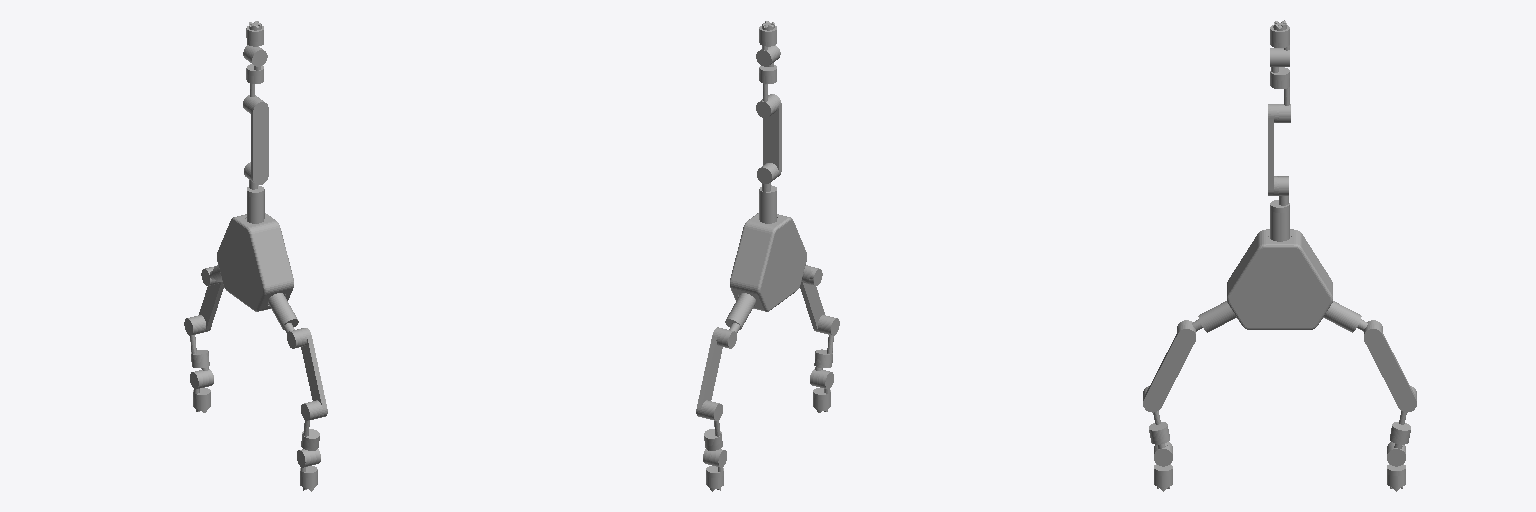
--- What the picture shows (computed from the rendered views, not written in the file) ---
3 views of the same robot in one strip: view 1: azimuth 30°, elevation 25°; view 2: azimuth 150°, elevation 25°; view 3: azimuth 270°, elevation 25° (orthographic).
Model mario_so2 with 26 links and 25 joints (18 continuous, 7 fixed), rooted at dummy_link, posed all joints at 0.
Visible links, largest first — view 1: base_link, arm_01_link_02_1, arm_02_link_02_1, arm_03_link_02_1, arm_02_link_03_1, arm_03_link_03_1; view 2: base_link, arm_01_link_02_1, arm_03_link_02_1, arm_02_link_02_1, arm_03_link_03_1, arm_02_link_03_1, arm_01_link_03_1; view 3: base_link, arm_02_link_02_1, arm_03_link_02_1, arm_01_link_02_1, arm_01_link_00_1, arm_02_link_00_1, arm_03_link_00_1.
Link boxes in pixels (bbox=[...]): base_link: bbox=[217, 213, 293, 311]; arm_01_link_02_1: bbox=[248, 98, 268, 184]; arm_02_link_02_1: bbox=[297, 328, 327, 418]; arm_03_link_02_1: bbox=[198, 266, 223, 332]; arm_02_link_03_1: bbox=[301, 401, 319, 445]; arm_03_link_03_1: bbox=[184, 316, 208, 362]; base_link: bbox=[730, 213, 806, 311]; arm_01_link_02_1: bbox=[763, 94, 781, 178]; arm_03_link_02_1: bbox=[696, 327, 725, 418]; arm_02_link_02_1: bbox=[800, 266, 825, 332]; arm_03_link_03_1: bbox=[704, 401, 722, 445]; arm_02_link_03_1: bbox=[815, 316, 839, 362]; arm_01_link_03_1: bbox=[756, 73, 776, 117]; base_link: bbox=[1227, 229, 1332, 329]; arm_02_link_02_1: bbox=[1143, 324, 1195, 412]; arm_03_link_02_1: bbox=[1364, 324, 1416, 412]; arm_01_link_02_1: bbox=[1268, 104, 1278, 195]; arm_01_link_00_1: bbox=[1270, 210, 1289, 240]; arm_02_link_00_1: bbox=[1204, 301, 1236, 329]; arm_03_link_00_1: bbox=[1323, 301, 1355, 329].
Bounding box of the posed robot: 0.2 × 1.4 × 2.63 m (x, y, z).
Meshes: 25 distinct files referenced, 25 mesh visuals loaded (25 binary STL).

The robot description file, URDF, robot "mario_so2":
<?xml version="1.0" ?>
<!-- =================================================================================== -->
<!-- |    This document was autogenerated by xacro from [local-path]/irene_ws/src/mario_so2_description/urdf/mario_so2.xacro | -->
<!-- |    EDITING THIS FILE BY HAND IS NOT RECOMMENDED                                 | -->
<!-- =================================================================================== -->
<robot name="mario_so2">
    <material name="silver">
        <color rgba="0.700 0.700 0.700 1.000" />
    </material>
    <transmission name="arm_01_joint_06_tran">
        <type>transmission_interface/SimpleTransmission</type>
        <joint name="arm_01_joint_06">
            <hardwareInterface>hardware_interface/PositionJointInterface</hardwareInterface>
        </joint>
        <actuator name="arm_01_joint_06_actr">
            <hardwareInterface>hardware_interface/PositionJointInterface</hardwareInterface>
            <mechanicalReduction>1</mechanicalReduction>
        </actuator>
    </transmission>
    <transmission name="arm_01_joint_05_tran">
        <type>transmission_interface/SimpleTransmission</type>
        <joint name="arm_01_joint_05">
            <hardwareInterface>hardware_interface/PositionJointInterface</hardwareInterface>
        </joint>
        <actuator name="arm_01_joint_05_actr">
            <hardwareInterface>hardware_interface/PositionJointInterface</hardwareInterface>
            <mechanicalReduction>1</mechanicalReduction>
        </actuator>
    </transmission>
    <transmission name="arm_01_joint_04_tran">
        <type>transmission_interface/SimpleTransmission</type>
        <joint name="arm_01_joint_04">
            <hardwareInterface>hardware_interface/PositionJointInterface</hardwareInterface>
        </joint>
        <actuator name="arm_01_joint_04_actr">
            <hardwareInterface>hardware_interface/PositionJointInterface</hardwareInterface>
            <mechanicalReduction>1</mechanicalReduction>
        </actuator>
    </transmission>
    <transmission name="arm_01_joint_03_tran">
        <type>transmission_interface/SimpleTransmission</type>
        <joint name="arm_01_joint_03">
            <hardwareInterface>hardware_interface/PositionJointInterface</hardwareInterface>
        </joint>
        <actuator name="arm_01_joint_03_actr">
            <hardwareInterface>hardware_interface/PositionJointInterface</hardwareInterface>
            <mechanicalReduction>1</mechanicalReduction>
        </actuator>
    </transmission>
    <transmission name="arm_01_joint_02_tran">
        <type>transmission_interface/SimpleTransmission</type>
        <joint name="arm_01_joint_02">
            <hardwareInterface>hardware_interface/PositionJointInterface</hardwareInterface>
        </joint>
        <actuator name="arm_01_joint_02_actr">
            <hardwareInterface>hardware_interface/PositionJointInterface</hardwareInterface>
            <mechanicalReduction>1</mechanicalReduction>
        </actuator>
    </transmission>
    <transmission name="arm_01_joint_01_tran">
        <type>transmission_interface/SimpleTransmission</type>
        <joint name="arm_01_joint_01">
            <hardwareInterface>hardware_interface/PositionJointInterface</hardwareInterface>
        </joint>
        <actuator name="arm_01_joint_01_actr">
            <hardwareInterface>hardware_interface/PositionJointInterface</hardwareInterface>
            <mechanicalReduction>1</mechanicalReduction>
        </actuator>
    </transmission>
    <transmission name="arm_02_joint_06_tran">
        <type>transmission_interface/SimpleTransmission</type>
        <joint name="arm_02_joint_06">
            <hardwareInterface>hardware_interface/PositionJointInterface</hardwareInterface>
        </joint>
        <actuator name="arm_02_joint_06_actr">
            <hardwareInterface>hardware_interface/PositionJointInterface</hardwareInterface>
            <mechanicalReduction>1</mechanicalReduction>
        </actuator>
    </transmission>
    <transmission name="arm_02_joint_05_tran">
        <type>transmission_interface/SimpleTransmission</type>
        <joint name="arm_02_joint_05">
            <hardwareInterface>hardware_interface/PositionJointInterface</hardwareInterface>
        </joint>
        <actuator name="arm_02_joint_05_actr">
            <hardwareInterface>hardware_interface/PositionJointInterface</hardwareInterface>
            <mechanicalReduction>1</mechanicalReduction>
        </actuator>
    </transmission>
    <transmission name="arm_02_joint_04_tran">
        <type>transmission_interface/SimpleTransmission</type>
        <joint name="arm_02_joint_04">
            <hardwareInterface>hardware_interface/PositionJointInterface</hardwareInterface>
        </joint>
        <actuator name="arm_02_joint_04_actr">
            <hardwareInterface>hardware_interface/PositionJointInterface</hardwareInterface>
            <mechanicalReduction>1</mechanicalReduction>
        </actuator>
    </transmission>
    <transmission name="arm_02_joint_03_tran">
        <type>transmission_interface/SimpleTransmission</type>
        <joint name="arm_02_joint_03">
            <hardwareInterface>hardware_interface/PositionJointInterface</hardwareInterface>
        </joint>
        <actuator name="arm_02_joint_03_actr">
            <hardwareInterface>hardware_interface/PositionJointInterface</hardwareInterface>
            <mechanicalReduction>1</mechanicalReduction>
        </actuator>
    </transmission>
    <transmission name="arm_02_joint_02_tran">
        <type>transmission_interface/SimpleTransmission</type>
        <joint name="arm_02_joint_02">
            <hardwareInterface>hardware_interface/PositionJointInterface</hardwareInterface>
        </joint>
        <actuator name="arm_02_joint_02_actr">
            <hardwareInterface>hardware_interface/PositionJointInterface</hardwareInterface>
            <mechanicalReduction>1</mechanicalReduction>
        </actuator>
    </transmission>
    <transmission name="arm_02_joint_01_tran">
        <type>transmission_interface/SimpleTransmission</type>
        <joint name="arm_02_joint_01">
            <hardwareInterface>hardware_interface/PositionJointInterface</hardwareInterface>
        </joint>
        <actuator name="arm_02_joint_01_actr">
            <hardwareInterface>hardware_interface/PositionJointInterface</hardwareInterface>
            <mechanicalReduction>1</mechanicalReduction>
        </actuator>
    </transmission>
    <transmission name="arm_03_joint_06_tran">
        <type>transmission_interface/SimpleTransmission</type>
        <joint name="arm_03_joint_06">
            <hardwareInterface>hardware_interface/PositionJointInterface</hardwareInterface>
        </joint>
        <actuator name="arm_03_joint_06_actr">
            <hardwareInterface>hardware_interface/PositionJointInterface</hardwareInterface>
            <mechanicalReduction>1</mechanicalReduction>
        </actuator>
    </transmission>
    <transmission name="arm_03_joint_05_tran">
        <type>transmission_interface/SimpleTransmission</type>
        <joint name="arm_03_joint_05">
            <hardwareInterface>hardware_interface/PositionJointInterface</hardwareInterface>
        </joint>
        <actuator name="arm_03_joint_05_actr">
            <hardwareInterface>hardware_interface/PositionJointInterface</hardwareInterface>
            <mechanicalReduction>1</mechanicalReduction>
        </actuator>
    </transmission>
    <transmission name="arm_03_joint_04_tran">
        <type>transmission_interface/SimpleTransmission</type>
        <joint name="arm_03_joint_04">
            <hardwareInterface>hardware_interface/PositionJointInterface</hardwareInterface>
        </joint>
        <actuator name="arm_03_joint_04_actr">
            <hardwareInterface>hardware_interface/PositionJointInterface</hardwareInterface>
            <mechanicalReduction>1</mechanicalReduction>
        </actuator>
    </transmission>
    <transmission name="arm_03_joint_03_tran">
        <type>transmission_interface/SimpleTransmission</type>
        <joint name="arm_03_joint_03">
            <hardwareInterface>hardware_interface/PositionJointInterface</hardwareInterface>
        </joint>
        <actuator name="arm_03_joint_03_actr">
            <hardwareInterface>hardware_interface/PositionJointInterface</hardwareInterface>
            <mechanicalReduction>1</mechanicalReduction>
        </actuator>
    </transmission>
    <transmission name="arm_03_joint_02_tran">
        <type>transmission_interface/SimpleTransmission</type>
        <joint name="arm_03_joint_02">
            <hardwareInterface>hardware_interface/PositionJointInterface</hardwareInterface>
        </joint>
        <actuator name="arm_03_joint_02_actr">
            <hardwareInterface>hardware_interface/PositionJointInterface</hardwareInterface>
            <mechanicalReduction>1</mechanicalReduction>
        </actuator>
    </transmission>
    <transmission name="arm_03_joint_01_tran">
        <type>transmission_interface/SimpleTransmission</type>
        <joint name="arm_03_joint_01">
            <hardwareInterface>hardware_interface/PositionJointInterface</hardwareInterface>
        </joint>
        <actuator name="arm_03_joint_01_actr">
            <hardwareInterface>hardware_interface/PositionJointInterface</hardwareInterface>
            <mechanicalReduction>1</mechanicalReduction>
        </actuator>
    </transmission>
    <gazebo>
        <plugin filename="libgazebo_ros_control.so" name="control" />
        <plugin name="gazebo_ros_control">
            <robotNamespace>/</robotNamespace>
        </plugin>
    </gazebo>
    <gazebo reference="base_link">
        <material>Gazebo/Silver</material>
        <mu1>0.2</mu1>
        <mu2>0.2</mu2>
        <selfCollide>true</selfCollide>
        <gravity>true</gravity>
    </gazebo>
    <gazebo reference="arm_02_dock_1">
        <material>Gazebo/Silver</material>
        <mu1>0.2</mu1>
        <mu2>0.2</mu2>
        <selfCollide>true</selfCollide>
    </gazebo>
    <gazebo reference="arm_02_link_06_1">
        <material>Gazebo/Silver</material>
        <mu1>0.2</mu1>
        <mu2>0.2</mu2>
        <selfCollide>true</selfCollide>
    </gazebo>
    <gazebo reference="arm_02_link_05_1">
        <material>Gazebo/Silver</material>
        <mu1>0.2</mu1>
        <mu2>0.2</mu2>
        <selfCollide>true</selfCollide>
    </gazebo>
    <gazebo reference="arm_02_link_04_1">
        <material>Gazebo/Silver</material>
        <mu1>0.2</mu1>
        <mu2>0.2</mu2>
        <selfCollide>true</selfCollide>
    </gazebo>
    <gazebo reference="arm_02_link_03_1">
        <material>Gazebo/Silver</material>
        <mu1>0.2</mu1>
        <mu2>0.2</mu2>
        <selfCollide>true</selfCollide>
    </gazebo>
    <gazebo reference="arm_02_link_02_1">
        <material>Gazebo/Silver</material>
        <mu1>0.2</mu1>
        <mu2>0.2</mu2>
        <selfCollide>true</selfCollide>
    </gazebo>
    <gazebo reference="arm_02_link_01_1">
        <material>Gazebo/Silver</material>
        <mu1>0.2</mu1>
        <mu2>0.2</mu2>
        <selfCollide>true</selfCollide>
    </gazebo>
    <gazebo reference="arm_03_dock_1">
        <material>Gazebo/Silver</material>
        <mu1>0.2</mu1>
        <mu2>0.2</mu2>
        <selfCollide>true</selfCollide>
    </gazebo>
    <gazebo reference="arm_03_link_06_1">
        <material>Gazebo/Silver</material>
        <mu1>0.2</mu1>
        <mu2>0.2</mu2>
        <selfCollide>true</selfCollide>
    </gazebo>
    <gazebo reference="arm_03_link_05_1">
        <material>Gazebo/Silver</material>
        <mu1>0.2</mu1>
        <mu2>0.2</mu2>
        <selfCollide>true</selfCollide>
    </gazebo>
    <gazebo reference="arm_03_link_04_1">
        <material>Gazebo/Silver</material>
        <mu1>0.2</mu1>
        <mu2>0.2</mu2>
        <selfCollide>true</selfCollide>
    </gazebo>
    <gazebo reference="arm_03_link_03_1">
        <material>Gazebo/Silver</material>
        <mu1>0.2</mu1>
        <mu2>0.2</mu2>
        <selfCollide>true</selfCollide>
    </gazebo>
    <gazebo reference="arm_03_link_02_1">
        <material>Gazebo/Silver</material>
        <mu1>0.2</mu1>
        <mu2>0.2</mu2>
        <selfCollide>true</selfCollide>
    </gazebo>
    <gazebo reference="arm_03_link_01_1">
        <material>Gazebo/Silver</material>
        <mu1>0.2</mu1>
        <mu2>0.2</mu2>
        <selfCollide>true</selfCollide>
    </gazebo>
    <gazebo reference="arm_01_dock_1">
        <material>Gazebo/Silver</material>
        <mu1>0.2</mu1>
        <mu2>0.2</mu2>
        <selfCollide>true</selfCollide>
    </gazebo>
    <gazebo reference="arm_01_link_06_1">
        <material>Gazebo/Silver</material>
        <mu1>0.2</mu1>
        <mu2>0.2</mu2>
        <selfCollide>true</selfCollide>
    </gazebo>
    <gazebo reference="arm_01_link_05_1">
        <material>Gazebo/Silver</material>
        <mu1>0.2</mu1>
        <mu2>0.2</mu2>
        <selfCollide>true</selfCollide>
    </gazebo>
    <gazebo reference="arm_01_link_04_1">
        <material>Gazebo/Silver</material>
        <mu1>0.2</mu1>
        <mu2>0.2</mu2>
        <selfCollide>true</selfCollide>
    </gazebo>
    <gazebo reference="arm_01_link_03_1">
        <material>Gazebo/Silver</material>
        <mu1>0.2</mu1>
        <mu2>0.2</mu2>
        <selfCollide>true</selfCollide>
    </gazebo>
    <gazebo reference="arm_01_link_02_1">
        <material>Gazebo/Silver</material>
        <mu1>0.2</mu1>
        <mu2>0.2</mu2>
        <selfCollide>true</selfCollide>
    </gazebo>
    <gazebo reference="arm_01_link_01_1">
        <material>Gazebo/Silver</material>
        <mu1>0.2</mu1>
        <mu2>0.2</mu2>
        <selfCollide>true</selfCollide>
    </gazebo>
    <gazebo reference="arm_01_link_00_1">
        <material>Gazebo/Silver</material>
        <mu1>0.2</mu1>
        <mu2>0.2</mu2>
        <selfCollide>true</selfCollide>
    </gazebo>
    <gazebo reference="arm_03_link_00_1">
        <material>Gazebo/Silver</material>
        <mu1>0.2</mu1>
        <mu2>0.2</mu2>
        <selfCollide>true</selfCollide>
    </gazebo>
    <gazebo reference="arm_02_link_00_1">
        <material>Gazebo/Silver</material>
        <mu1>0.2</mu1>
        <mu2>0.2</mu2>
        <selfCollide>true</selfCollide>
    </gazebo>
    <link name="dummy_link">
        <visual>
            <!-- <geometry>
      <sphere radius="0.1"/>
    </geometry>   -->
        </visual>
        <collision>
            <geometry>
                <cylinder length="0.05" radius="0.1" />
            </geometry>
        </collision>
        <inertial>
            <mass value="0.1" />
            <origin xyz="0 0 0" rpy="0 0 0" />
            <inertia ixx="0.03" iyy="0.03" izz="0.03" ixy="0.0" ixz="0.0" iyz="0.0" />
        </inertial>
    </link>
    <link name="base_link">
        <inertial>
            <origin rpy="0 0 0" xyz="0.0010000000000137455 0.595339900070785 1.460901992118656" />
            <mass value="13.472578526765847" />
            <inertia ixx="0.568265" ixy="-0.0" ixz="-0.0" iyy="0.36191" iyz="0.0" izz="0.36191" />
        </inertial>
        <visual>
            <origin rpy="0 0 0" xyz="0 0 0" />
            <geometry>
                <mesh filename="package://mario_so2_description/meshes/base_link.stl" scale="0.001 0.001 0.001" />
            </geometry>
            <material name="silver" />
        </visual>
        <collision>
            <origin rpy="0 0 0" xyz="0 0 0" />
            <geometry>
                <mesh filename="package://mario_so2_description/meshes/base_link.stl" scale="0.001 0.001 0.001" />
            </geometry>
        </collision>
    </link>
    <joint name="dummy_joint" type="fixed">
        <origin rpy="0 0 0" xyz="0.0 0.0 0.0" />
        <parent link="dummy_link" />
        <child link="base_link" />
    </joint>
    <link name="arm_01_dock_1" self_collide="false">
        <inertial>
            <origin rpy="0 0 0" xyz="4.130804489454218e-05 -9.994297911486427e-08 0.01137523033735599" />
            <mass value="0.08663474027437225" />
            <inertia ixx="3.1e-05" ixy="-0.0" ixz="0.0" iyy="3e-05" iyz="0.0" izz="5.2e-05" />
        </inertial>
        <visual>
            <origin rpy="0 0 0" xyz="-0.001 -0.59634 -2.902983" />
            <geometry>
                <mesh filename="package://mario_so2_description/meshes/arm_01_dock_1.stl" scale="0.001 0.001 0.001" />
            </geometry>
            <material name="silver" />
        </visual>
        <collision>
            <origin rpy="0 0 0" xyz="-0.001 -0.59634 -2.902983" />
            <geometry>
                <mesh filename="package://mario_so2_description/meshes/arm_01_dock_1.stl" scale="0.001 0.001 0.001" />
            </geometry>
        </collision>
    </link>
    <link name="arm_01_link_06_1">
        <inertial>
            <origin rpy="0 0 0" xyz="2.2254116952002967e-14 -9.992921334855964e-08 0.03075011594588606" />
            <mass value="0.512001062718799" />
            <inertia ixx="0.000481" ixy="-0.0" ixz="0.0" iyy="0.000481" iyz="0.0" izz="0.00064" />
        </inertial>
        <visual>
            <origin rpy="0 0 0" xyz="-0.001 -0.59634 -2.841483" />
            <geometry>
                <mesh filename="package://mario_so2_description/meshes/arm_01_link_06_1.stl" scale="0.001 0.001 0.001" />
            </geometry>
            <material name="silver" />
        </visual>
        <collision>
            <origin rpy="0 0 0" xyz="-0.001 -0.59634 -2.841483" />
            <geometry>
                <mesh filename="package://mario_so2_description/meshes/arm_01_link_06_1.stl" scale="0.001 0.001 0.001" />
            </geometry>
        </collision>
    </link>
    <link name="arm_01_link_05_1">
        <inertial>
            <origin rpy="0 0 0" xyz="2.1614654510671016e-14 0.016214762343154 0.03500374657024796" />
            <mass value="0.6881071421127011" />
            <inertia ixx="0.001936" ixy="-0.0" ixz="0.0" iyy="0.002005" iyz="0.000344" izz="0.000767" />
        </inertial>
        <visual>
            <origin rpy="0 0 0" xyz="-0.001 -0.59634 -2.735583" />
            <geometry>
                <mesh filename="package://mario_so2_description/meshes/arm_01_link_05_1.stl" scale="0.001 0.001 0.001" />
            </geometry>
            <material name="silver" />
        </visual>
        <collision>
            <origin rpy="0 0 0" xyz="-0.001 -0.59634 -2.735583" />
            <geometry>
                <mesh filename="package://mario_so2_description/meshes/arm_01_link_05_1.stl" scale="0.001 0.001 0.001" />
            </geometry>
        </collision>
    </link>
    <link name="arm_01_link_04_1">
        <inertial>
            <origin rpy="0 0 0" xyz="1.51766521821414e-05 -0.01610484198962192 0.07035754068605904" />
            <mass value="0.7020791981272467" />
            <inertia ixx="0.001945" ixy="0.0" ixz="0.0" iyy="0.002018" iyz="0.000346" izz="0.000767" />
        </inertial>
        <visual>
            <origin rpy="0 0 0" xyz="-0.001 -0.59634 -2.629683" />
            <geometry>
                <mesh filename="package://mario_so2_description/meshes/arm_01_link_04_1.stl" scale="0.001 0.001 0.001" />
            </geometry>
            <material name="silver" />
        </visual>
        <collision>
            <origin rpy="0 0 0" xyz="-0.001 -0.59634 -2.629683" />
            <geometry>
                <mesh filename="package://mario_so2_description/meshes/arm_01_link_04_1.stl" scale="0.001 0.001 0.001" />
            </geometry>
        </collision>
    </link>
    <link name="arm_01_link_03_1">
        <inertial>
            <origin rpy="0 0 0" xyz="2.021126321860578e-14 0.021007460364998343 0.08504656118811038" />
            <mass value="0.997405593886483" />
            <inertia ixx="0.008723" ixy="-0.0" ixz="0.0" iyy="0.008725" iyz="0.00095" izz="0.001152" />
        </inertial>
        <visual>
            <origin rpy="0 0 0" xyz="-0.001 -0.58994 -2.421283" />
            <geometry>
                <mesh filename="package://mario_so2_description/meshes/arm_01_link_03_1.stl" scale="0.001 0.001 0.001" />
            </geometry>
            <material name="silver" />
        </visual>
        <collision>
            <origin rpy="0 0 0" xyz="-0.001 -0.58994 -2.421283" />
            <geometry>
                <mesh filename="package://mario_so2_description/meshes/arm_01_link_03_1.stl" scale="0.001 0.001 0.001" />
            </geometry>
        </collision>
    </link>
    <link name="arm_01_link_02_1">
        <inertial>
            <origin rpy="0 0 0" xyz="1.8630496451121914e-14 -0.03418881162303633 0.20500011594588496" />
            <mass value="1.9698176425610354" />
            <inertia ixx="0.049229" ixy="-0.0" ixz="-0.0" iyy="0.050345" iyz="0.0" izz="0.001889" />
        </inertial>
        <visual>
            <origin rpy="0 0 0" xyz="-0.001 -0.58994 -2.011283" />
            <geometry>
                <mesh filename="package://mario_so2_description/meshes/arm_01_link_02_1.stl" scale="0.001 0.001 0.001" />
            </geometry>
            <material name="silver" />
        </visual>
        <collision>
            <origin rpy="0 0 0" xyz="-0.001 -0.58994 -2.011283" />
            <geometry>
                <mesh filename="package://mario_so2_description/meshes/arm_01_link_02_1.stl" scale="0.001 0.001 0.001" />
            </geometry>
        </collision>
    </link>
    <link name="arm_01_link_01_1">
        <inertial>
            <origin rpy="0 0 0" xyz="6.394930572714216e-09 0.013243404228856392 0.0817063972213945" />
            <mass value="0.770115514016459" />
            <inertia ixx="0.002717" ixy="0.0" ixz="0.0" iyy="0.002827" iyz="-0.000327" izz="0.000757" />
        </inertial>
        <visual>
            <origin rpy="0 0 0" xyz="-0.001 -0.59534 -1.882883" />
            <geometry>
                <mesh filename="package://mario_so2_description/meshes/arm_01_link_01_1.stl" scale="0.001 0.001 0.001" />
            </geometry>
            <material name="silver" />
        </visual>
        <collision>
            <origin rpy="0 0 0" xyz="-0.001 -0.59534 -1.882883" />
            <geometry>
                <mesh filename="package://mario_so2_description/meshes/arm_01_link_01_1.stl" scale="0.001 0.001 0.001" />
            </geometry>
        </collision>
    </link>
    <link name="arm_01_link_00_1">
        <inertial>
            <origin rpy="0 0 0" xyz="1.6445395392694628e-14 -9.992921468082727e-08 0.0782001159458845" />
            <mass value="1.302064491206825" />
            <inertia ixx="0.003468" ixy="-0.0" ixz="0.0" iyy="0.003468" iyz="-0.0" izz="0.001628" />
        </inertial>
        <visual>
            <origin rpy="0 0 0" xyz="-0.001 -0.59534 -1.726483" />
            <geometry>
                <mesh filename="package://mario_so2_description/meshes/arm_01_link_00_1.stl" scale="0.001 0.001 0.001" />
            </geometry>
            <material name="silver" />
        </visual>
        <collision>
            <origin rpy="0 0 0" xyz="-0.001 -0.59534 -1.726483" />
            <geometry>
                <mesh filename="package://mario_so2_description/meshes/arm_01_link_00_1.stl" scale="0.001 0.001 0.001" />
            </geometry>
        </collision>
    </link>
    <link name="arm_02_dock_1" self_collide="false">
        <inertial>
            <origin rpy="0 0 0" xyz="-2.9186704699881715e-05 -2.91810067366062e-05 -0.011374866043244669" />
            <mass value="0.08663439746489035" />
            <inertia ixx="3e-05" ixy="0.0" ixz="0.0" iyy="3e-05" iyz="0.0" izz="5.2e-05" />
        </inertial>
        <visual>
            <origin rpy="0 0 0" xyz="0.0 0.0 -0.3372" />
            <geometry>
                <mesh filename="package://mario_so2_description/meshes/arm_02_dock_1.stl" scale="0.001 0.001 0.001" />
            </geometry>
            <material name="silver" />
        </visual>
        <collision>
            <origin rpy="0 0 0" xyz="0.0 0.0 -0.3372" />
            <geometry>
                <mesh filename="package://mario_so2_description/meshes/arm_02_dock_1.stl" scale="0.001 0.001 0.001" />
            </geometry>
        </collision>
    </link>
    <link name="arm_02_link_06_1">
        <inertial>
            <origin rpy="0 0 0" xyz="-9.774125953043723e-16 -3.552713678800501e-16 -0.030749839251724587" />
            <mass value="0.5120010627188" />
            <inertia ixx="0.000481" ixy="0.0" ixz="0.0" iyy="0.000481" iyz="0.0" izz="0.00064" />
        </inertial>
        <visual>
            <origin rpy="0 0 0" xyz="0.0 -0.0 -0.3987" />
            <geometry>
                <mesh filename="package://mario_so2_description/meshes/arm_02_link_06_1.stl" scale="0.001 0.001 0.001" />
            </geometry>
            <material name="silver" />
        </visual>
        <collision>
            <origin rpy="0 0 0" xyz="0.0 -0.0 -0.3987" />
            <geometry>
                <mesh filename="package://mario_so2_description/meshes/arm_02_link_06_1.stl" scale="0.001 0.001 0.001" />
            </geometry>
        </collision>
    </link>
    <link name="arm_02_link_05_1">
        <inertial>
            <origin rpy="0 0 0" xyz="-0.01621486220125651 2.3092638912203257e-16 -0.035003456293430824" />
            <mass value="0.6881065314959495" />
            <inertia ixx="0.002005" ixy="0.0" ixz="0.000344" iyy="0.001936" iyz="0.0" izz="0.000767" />
        </inertial>
        <visual>
            <origin rpy="0 0 0" xyz="-0.0 -0.0 -0.5046" />
            <geometry>
                <mesh filename="package://mario_so2_description/meshes/arm_02_link_05_1.stl" scale="0.001 0.001 0.001" />
            </geometry>
            <material name="silver" />
        </visual>
        <collision>
            <origin rpy="0 0 0" xyz="-0.0 -0.0 -0.5046" />
            <geometry>
                <mesh filename="package://mario_so2_description/meshes/arm_02_link_05_1.stl" scale="0.001 0.001 0.001" />
            </geometry>
        </collision>
    </link>
    <link name="arm_02_link_04_1">
        <inertial>
            <origin rpy="0 0 0" xyz="0.016104633335673482 0.012202219627462504 -0.0692910057608298" />
            <mass value="0.7020704942394854" />
            <inertia ixx="0.002018" ixy="-6e-05" ixz="0.00034" iyy="0.00191" iyz="0.000202" izz="0.000803" />
        </inertial>
        <visual>
            <origin rpy="0 0 0" xyz="-0.0 0.018389 -0.608891" />
            <geometry>
                <mesh filename="package://mario_so2_description/meshes/arm_02_link_04_1.stl" scale="0.001 0.001 0.001" />
            </geometry>
            <material name="silver" />
        </visual>
        <collision>
            <origin rpy="0 0 0" xyz="-0.0 0.018389 -0.608891" />
            <geometry>
                <mesh filename="package://mario_so2_description/meshes/arm_02_link_04_1.stl" scale="0.001 0.001 0.001" />
            </geometry>
        </collision>
    </link>
    <link name="arm_02_link_03_1">
        <inertial>
            <origin rpy="0 0 0" xyz="-0.021007560363107122 0.014768538004174867 -0.08375416118603274" />
            <mass value="0.9974055974174101" />
            <inertia ixx="0.008725" ixy="-0.000165" ixz="0.000936" iyy="0.008495" iyz="0.001295" izz="0.00138" />
        </inertial>
        <visual>
            <origin rpy="0 0 0" xyz="-0.0064 0.054578 -0.814125" />
            <geometry>
                <mesh filename="package://mario_so2_description/meshes/arm_02_link_03_1.stl" scale="0.001 0.001 0.001" />
            </geometry>
            <material name="silver" />
        </visual>
        <collision>
            <origin rpy="0 0 0" xyz="-0.0064 0.054578 -0.814125" />
            <geometry>
                <mesh filename="package://mario_so2_description/meshes/arm_02_link_03_1.stl" scale="0.001 0.001 0.001" />
            </geometry>
        </collision>
    </link>
    <link name="arm_02_link_02_1">
        <inertial>
            <origin rpy="0 0 0" xyz="0.03418871169382718 -0.08663687858386163 -0.18579266613748313" />
            <mass value="1.969817642560595" />
            <inertia ixx="0.050345" ixy="-0.0" ixz="0.0" iyy="0.040774" iyz="-0.018132" izz="0.010344" />
        </inertial>
        <visual>
            <origin rpy="0 0 0" xyz="-0.0064 -0.118696 -1.185711" />
            <geometry>
                <mesh filename="package://mario_so2_description/meshes/arm_02_link_02_1.stl" scale="0.001 0.001 0.001" />
            </geometry>
            <material name="silver" />
        </visual>
        <collision>
            <origin rpy="0 0 0" xyz="-0.0064 -0.118696 -1.185711" />
            <geometry>
                <mesh filename="package://mario_so2_description/meshes/arm_02_link_02_1.stl" scale="0.001 0.001 0.001" />
            </geometry>
        </collision>
    </link>
    <link name="arm_02_link_01_1">
        <inertial>
            <origin rpy="0 0 0" xyz="-0.013243511469972165 -0.07076019143894366 -0.040852712236645106" />
            <mass value="0.7701153946406074" />
            <inertia ixx="0.002827" ixy="-0.000283" ixz="-0.000163" iyy="0.001247" iyz="-0.000849" izz="0.002227" />
        </inertial>
        <visual>
            <origin rpy="0 0 0" xyz="-0.001 -0.229894 -1.249911" />
            <geometry>
                <mesh filename="package://mario_so2_description/meshes/arm_02_link_01_1.stl" scale="0.001 0.001 0.001" />
            </geometry>
            <material name="silver" />
        </visual>
        <collision>
            <origin rpy="0 0 0" xyz="-0.001 -0.229894 -1.249911" />
            <geometry>
                <mesh filename="package://mario_so2_description/meshes/arm_02_link_01_1.stl" scale="0.001 0.001 0.001" />
            </geometry>
        </collision>
    </link>
    <link name="arm_02_link_00_1">
        <inertial>
            <origin rpy="0 0 0" xyz="1.1613756831230226e-14 -0.06772328650515863 -0.03909956979495832" />
            <mass value="1.3020644912068255" />
            <inertia ixx="0.003468" ixy="-0.0" ixz="0.0" iyy="0.002088" iyz="-0.000797" izz="0.003008" />
        </inertial>
        <visual>
            <origin rpy="0 0 0" xyz="-0.001 -0.36534 -1.328111" />
            <geometry>
                <mesh filename="package://mario_so2_description/meshes/arm_02_link_00_1.stl" scale="0.001 0.001 0.001" />
            </geometry>
            <material name="silver" />
        </visual>
        <collision>
            <origin rpy="0 0 0" xyz="-0.001 -0.36534 -1.328111" />
            <geometry>
                <mesh filename="package://mario_so2_description/meshes/arm_02_link_00_1.stl" scale="0.001 0.001 0.001" />
            </geometry>
        </collision>
    </link>
    <link name="arm_03_dock_1" self_collide="false">
        <inertial>
            <origin rpy="0 0 0" xyz="-0.5963108374408784 0.23717058925821155 -0.4222969464714996" />
            <mass value="0.08663484175253014" />
            <inertia ixx="3e-05" ixy="-0.0" ixz="-0.0" iyy="3e-05" iyz="0.0" izz="5.2e-05" />
        </inertial>
        <visual>
            <origin rpy="0 0 0" xyz="-0.59634 -0.95348 -0.748122" />
            <geometry>
                <mesh filename="package://mario_so2_description/meshes/arm_03_dock_1.stl" scale="0.001 0.001 0.001" />
            </geometry>
            <material name="silver" />
        </visual>
        <collision>
            <origin rpy="0 0 0" xyz="-0.59634 -0.95348 -0.748122" />
            <geometry>
                <mesh filename="package://mario_so2_description/meshes/arm_03_dock_1.stl" scale="0.001 0.001 0.001" />
            </geometry>
        </collision>
    </link>
    <link name="arm_03_link_06_1">
        <inertial>
            <origin rpy="0 0 0" xyz="5.191125307391076e-15 -1.9985843469072506e-07 -0.030749839251732247" />
            <mass value="0.5120010627187991" />
            <inertia ixx="0.000481" ixy="-0.0" ixz="0.0" iyy="0.000481" iyz="0.0" izz="0.00064" />
        </inertial>
        <visual>
            <origin rpy="0 0 0" xyz="-0.0 -1.19068 -0.3987" />
            <geometry>
                <mesh filename="package://mario_so2_description/meshes/arm_03_link_06_1.stl" scale="0.001 0.001 0.001" />
            </geometry>
            <material name="silver" />
        </visual>
        <collision>
            <origin rpy="0 0 0" xyz="-0.0 -1.19068 -0.3987" />
            <geometry>
                <mesh filename="package://mario_so2_description/meshes/arm_03_link_06_1.stl" scale="0.001 0.001 0.001" />
            </geometry>
        </collision>
    </link>
    <link name="arm_03_link_05_1">
        <inertial>
            <origin rpy="0 0 0" xyz="-0.016214862201250943 -1.9985843402459125e-07 -0.03500345629344043" />
            <mass value="0.6881065314959485" />
            <inertia ixx="0.002005" ixy="-0.0" ixz="0.000344" iyy="0.001936" iyz="-0.0" izz="0.000767" />
        </inertial>
        <visual>
            <origin rpy="0 0 0" xyz="-0.0 -1.19068 -0.5046" />
            <geometry>
                <mesh filename="package://mario_so2_description/meshes/arm_03_link_05_1.stl" scale="0.001 0.001 0.001" />
            </geometry>
            <material name="silver" />
        </visual>
        <collision>
            <origin rpy="0 0 0" xyz="-0.0 -1.19068 -0.5046" />
            <geometry>
                <mesh filename="package://mario_so2_description/meshes/arm_03_link_05_1.stl" scale="0.001 0.001 0.001" />
            </geometry>
        </collision>
    </link>
    <link name="arm_03_link_04_1">
        <inertial>
            <origin rpy="0 0 0" xyz="0.016104631094472653 -0.012232223653998897 -0.06928575048186703" />
            <mass value="0.702070494239485" />
            <inertia ixx="0.002018" ixy="6e-05" ixz="0.00034" iyy="0.00191" iyz="-0.000201" izz="0.000802" />
        </inertial>
        <visual>
            <origin rpy="0 0 0" xyz="-0.0 -1.209069 -0.608891" />
            <geometry>
                <mesh filename="package://mario_so2_description/meshes/arm_03_link_04_1.stl" scale="0.001 0.001 0.001" />
            </geometry>
            <material name="silver" />
        </visual>
        <collision>
            <origin rpy="0 0 0" xyz="-0.0 -1.209069 -0.608891" />
            <geometry>
                <mesh filename="package://mario_so2_description/meshes/arm_03_link_04_1.stl" scale="0.001 0.001 0.001" />
            </geometry>
        </collision>
    </link>
    <link name="arm_03_link_03_1">
        <inertial>
            <origin rpy="0 0 0" xyz="-0.021007560363102123 -0.01476773786261476 -0.08375416118603773" />
            <mass value="0.9974055974174089" />
            <inertia ixx="0.008725" ixy="0.000165" ixz="0.000936" iyy="0.008495" iyz="-0.001295" izz="0.00138" />
        </inertial>
        <visual>
            <origin rpy="0 0 0" xyz="-0.0064 -1.245257 -0.814125" />
            <geometry>
                <mesh filename="package://mario_so2_description/meshes/arm_03_link_03_1.stl" scale="0.001 0.001 0.001" />
            </geometry>
            <material name="silver" />
        </visual>
        <collision>
            <origin rpy="0 0 0" xyz="-0.0064 -1.245257 -0.814125" />
            <geometry>
                <mesh filename="package://mario_so2_description/meshes/arm_03_link_03_1.stl" scale="0.001 0.001 0.001" />
            </geometry>
        </collision>
    </link>
    <link name="arm_03_link_02_1">
        <inertial>
            <origin rpy="0 0 0" xyz="0.03418871169383212 0.08663667872544156 -0.18579266613747902" />
            <mass value="1.9698176425605938" />
            <inertia ixx="0.050345" ixy="-0.0" ixz="0.0" iyy="0.040774" iyz="0.018132" izz="0.010344" />
        </inertial>
        <visual>
            <origin rpy="0 0 0" xyz="-0.0064 -1.071984 -1.185711" />
            <geometry>
                <mesh filename="package://mario_so2_description/meshes/arm_03_link_02_1.stl" scale="0.001 0.001 0.001" />
            </geometry>
            <material name="silver" />
        </visual>
        <collision>
            <origin rpy="0 0 0" xyz="-0.0064 -1.071984 -1.185711" />
            <geometry>
                <mesh filename="package://mario_so2_description/meshes/arm_03_link_02_1.stl" scale="0.001 0.001 0.001" />
            </geometry>
        </collision>
    </link>
    <link name="arm_03_link_01_1">
        <inertial>
            <origin rpy="0 0 0" xyz="-0.013243511469967075 0.07075999158050561 -0.04085271223664955" />
            <mass value="0.7701153946406073" />
            <inertia ixx="0.002827" ixy="0.000283" ixz="-0.000163" iyy="0.001247" iyz="0.000849" izz="0.002227" />
        </inertial>
        <visual>
            <origin rpy="0 0 0" xyz="-0.001 -0.960786 -1.249911" />
            <geometry>
                <mesh filename="package://mario_so2_description/meshes/arm_03_link_01_1.stl" scale="0.001 0.001 0.001" />
            </geometry>
            <material name="silver" />
        </visual>
        <collision>
            <origin rpy="0 0 0" xyz="-0.001 -0.960786 -1.249911" />
            <geometry>
                <mesh filename="package://mario_so2_description/meshes/arm_03_link_01_1.stl" scale="0.001 0.001 0.001" />
            </geometry>
        </collision>
    </link>
    <link name="arm_03_link_00_1">
        <inertial>
            <origin rpy="0 0 0" xyz="1.2324126094642729e-14 0.06772308664672821 -0.03909956979495921" />
            <mass value="1.302064491206825" />
            <inertia ixx="0.003468" ixy="-0.0" ixz="0.0" iyy="0.002088" iyz="0.000797" izz="0.003008" />
        </inertial>
        <visual>
            <origin rpy="0 0 0" xyz="-0.001 -0.82534 -1.328111" />
            <geometry>
                <mesh filename="package://mario_so2_description/meshes/arm_03_link_00_1.stl" scale="0.001 0.001 0.001" />
            </geometry>
            <material name="silver" />
        </visual>
        <collision>
            <origin rpy="0 0 0" xyz="-0.001 -0.82534 -1.328111" />
            <geometry>
                <mesh filename="package://mario_so2_description/meshes/arm_03_link_00_1.stl" scale="0.001 0.001 0.001" />
            </geometry>
        </collision>
    </link>
    <joint name="arm_01_dock" self_collide="false" type="fixed">
        <origin rpy="0 0 0" xyz="0.0 0.0 0.0615" />
        <parent link="arm_01_link_06_1" />
        <child link="arm_01_dock_1" />
    </joint>
    <joint name="arm_01_joint_06" type="continuous">
        <origin rpy="0 0 0" xyz="0.0 0.0 0.1059" />
        <parent link="arm_01_link_05_1" />
        <child link="arm_01_link_06_1" />
        <axis xyz="0.0 0.0 1.0" />
    </joint>
    <joint name="arm_01_joint_05" type="continuous">
        <origin rpy="0 0 0" xyz="0.0 0.0 0.1059" />
        <parent link="arm_01_link_04_1" />
        <child link="arm_01_link_05_1" />
        <axis xyz="0.0 1.0 -0.0" />
    </joint>
    <joint name="arm_01_joint_04" type="continuous">
        <origin rpy="0 0 0" xyz="0.0 0.0064 0.2084" />
        <parent link="arm_01_link_03_1" />
        <child link="arm_01_link_04_1" />
        <axis xyz="0.0 0.0 1.0" />
    </joint>
    <joint name="arm_01_joint_03" type="continuous">
        <origin rpy="0 0 0" xyz="0.0 0.0 0.41" />
        <parent link="arm_01_link_02_1" />
        <child link="arm_01_link_03_1" />
        <axis xyz="0.0 1.0 -0.0" />
    </joint>
    <joint name="arm_01_joint_02" type="continuous">
        <origin rpy="0 0 0" xyz="0.0 -0.0054 0.1284" />
        <parent link="arm_01_link_01_1" />
        <child link="arm_01_link_02_1" />
        <axis xyz="0.0 1.0 -0.0" />
    </joint>
    <joint name="arm_01_joint_01" type="continuous">
        <origin rpy="0 0 0" xyz="0.0 0.0 0.1564" />
        <parent link="arm_01_link_00_1" />
        <child link="arm_01_link_01_1" />
        <axis xyz="0.0 0.0 1.0" />
    </joint>
    <joint name="arm_01_joint_base" type="fixed">
        <origin rpy="0 0 0" xyz="0.001 0.59534 1.726483" />
        <parent link="base_link" />
        <child link="arm_01_link_00_1" />
    </joint>
    <joint name="arm_02_dock" self_collide="false" type="fixed">
        <origin rpy="0 0 0" xyz="0.0 -0.0 -0.0615" />
        <parent link="arm_02_link_06_1" />
        <child link="arm_02_dock_1" />
    </joint>
    <joint name="arm_02_joint_06" type="continuous">
        <origin rpy="0 0 0" xyz="-0.0 0.0 -0.1059" />
        <parent link="arm_02_link_05_1" />
        <child link="arm_02_link_06_1" />
        <axis xyz="-0.0 -0.0 -1.0" />
    </joint>
    <joint name="arm_02_joint_05" type="continuous">
        <origin rpy="0 0 0" xyz="0.0 0.018389 -0.104291" />
        <parent link="arm_02_link_04_1" />
        <child link="arm_02_link_05_1" />
        <axis xyz="-1.0 0.0 0.0" />
    </joint>
    <joint name="arm_02_joint_04" type="continuous">
        <origin rpy="0 0 0" xyz="-0.0064 0.036189 -0.205234" />
        <parent link="arm_02_link_03_1" />
        <child link="arm_02_link_04_1" />
        <axis xyz="-0.0 0.173648 -0.984808" />
    </joint>
    <joint name="arm_02_joint_03" type="continuous">
        <origin rpy="0 0 0" xyz="0.0 -0.173274 -0.371586" />
        <parent link="arm_02_link_02_1" />
        <child link="arm_02_link_03_1" />
        <axis xyz="-1.0 0.0 0.0" />
    </joint>
    <joint name="arm_02_joint_02" type="continuous">
        <origin rpy="0 0 0" xyz="0.0054 -0.111198 -0.0642" />
        <parent link="arm_02_link_01_1" />
        <child link="arm_02_link_02_1" />
        <axis xyz="-1.0 0.0 0.0" />
    </joint>
    <joint name="arm_02_joint_01" type="continuous">
        <origin rpy="0 0 0" xyz="0.0 -0.135446 -0.0782" />
        <parent link="arm_02_link_00_1" />
        <child link="arm_02_link_01_1" />
        <axis xyz="-0.0 -0.866025 -0.5" />
    </joint>
    <joint name="arm_02_joint_base" type="fixed">
        <origin rpy="0 0 0" xyz="0.001 0.36534 1.328111" />
        <parent link="base_link" />
        <child link="arm_02_link_00_1" />
    </joint>
    <joint name="arm_03_dock" self_collide="false" type="fixed">
        <origin rpy="0 0 0" xyz="0.59634 -0.2372 0.349422" />
        <parent link="arm_03_link_06_1" />
        <child link="arm_03_dock_1" />
    </joint>
    <joint name="arm_03_joint_06" type="continuous">
        <origin rpy="0 0 0" xyz="0.0 0.0 -0.1059" />
        <parent link="arm_03_link_05_1" />
        <child link="arm_03_link_06_1" />
        <axis xyz="-0.0 -0.0 -1.0" />
    </joint>
    <joint name="arm_03_joint_05" type="continuous">
        <origin rpy="0 0 0" xyz="0.0 -0.018389 -0.104291" />
        <parent link="arm_03_link_04_1" />
        <child link="arm_03_link_05_1" />
        <axis xyz="-1.0 -0.0 0.0" />
    </joint>
    <joint name="arm_03_joint_04" type="continuous">
        <origin rpy="0 0 0" xyz="-0.0064 -0.036188 -0.205234" />
        <parent link="arm_03_link_03_1" />
        <child link="arm_03_link_04_1" />
        <axis xyz="-0.0 -0.173648 -0.984808" />
    </joint>
    <joint name="arm_03_joint_03" type="continuous">
        <origin rpy="0 0 0" xyz="0.0 0.173273 -0.371586" />
        <parent link="arm_03_link_02_1" />
        <child link="arm_03_link_03_1" />
        <axis xyz="-1.0 -0.0 0.0" />
    </joint>
    <joint name="arm_03_joint_02" type="continuous">
        <origin rpy="0 0 0" xyz="0.0054 0.111198 -0.0642" />
        <parent link="arm_03_link_01_1" />
        <child link="arm_03_link_02_1" />
        <axis xyz="-1.0 -0.0 0.0" />
    </joint>
    <joint name="arm_03_joint_01" type="continuous">
        <origin rpy="0 0 0" xyz="0.0 0.135446 -0.0782" />
        <parent link="arm_03_link_00_1" />
        <child link="arm_03_link_01_1" />
        <axis xyz="-0.0 0.866025 -0.5" />
    </joint>
    <joint name="arm_03_joint_base" type="fixed">
        <origin rpy="0 0 0" xyz="0.001 0.82534 1.328111" />
        <parent link="base_link" />
        <child link="arm_03_link_00_1" />
    </joint>
</robot>
